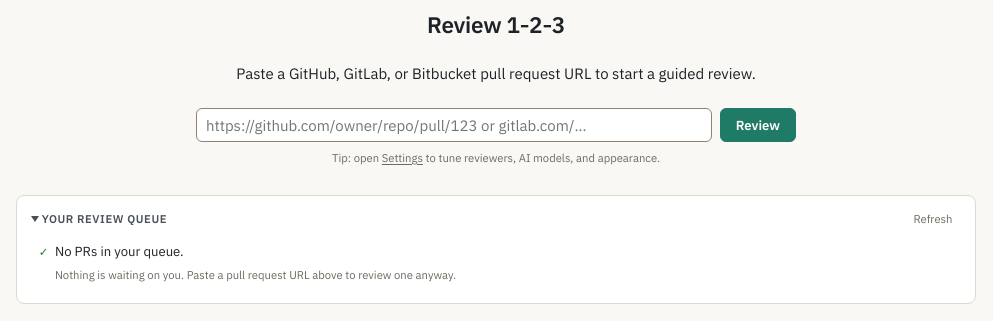
it: Landing collapsible sections › clicking the queue header collapses the queue body
expect the text "No PRs in your queue" is shown: met, box [55, 243, 184, 260]
Click the button "Your review queue": (100, 219) [32, 211, 167, 227]
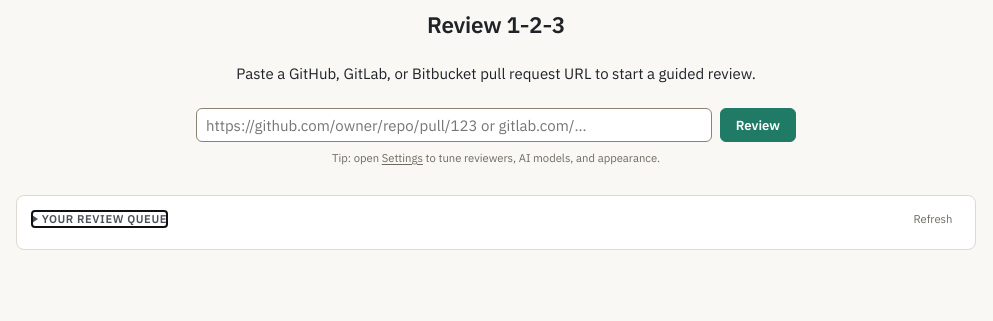
expect the button "Your review queue" is collapsed: met, box [32, 211, 167, 227]
expect the text "No PRs in your queue" is gone: met
